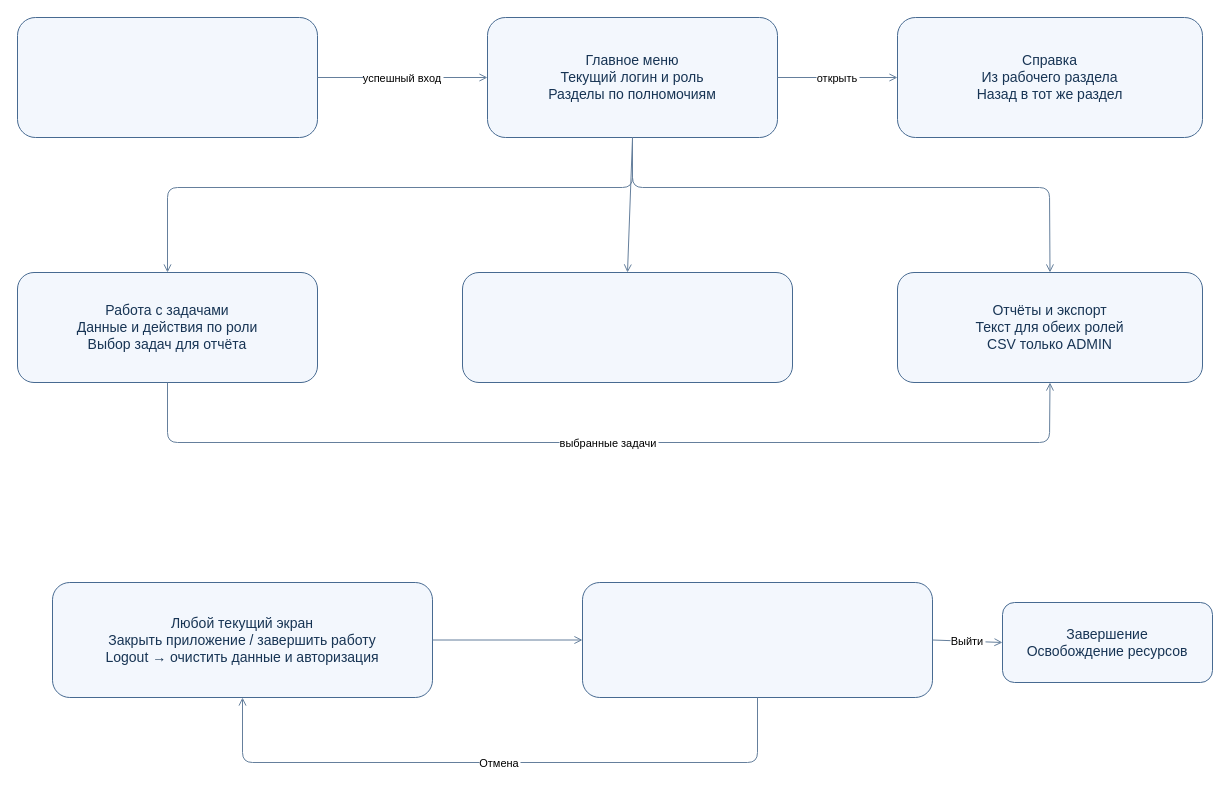
Some shapes in this 1230 by 788 pixel diagram are drawn without their labels. Each missing label, with the centre of its shape:
"Авторизация Ошибка → остаться на входе Успех → главное меню" belongs at point 167,77.
"Подтверждение выхода Отмена → исходный экран и ввод Выйти → завершение" belongs at point 757,640.
"Пользователи [ADMIN] Создание / логин и роль Сброс пароля / удаление" belongs at point 627,327.
